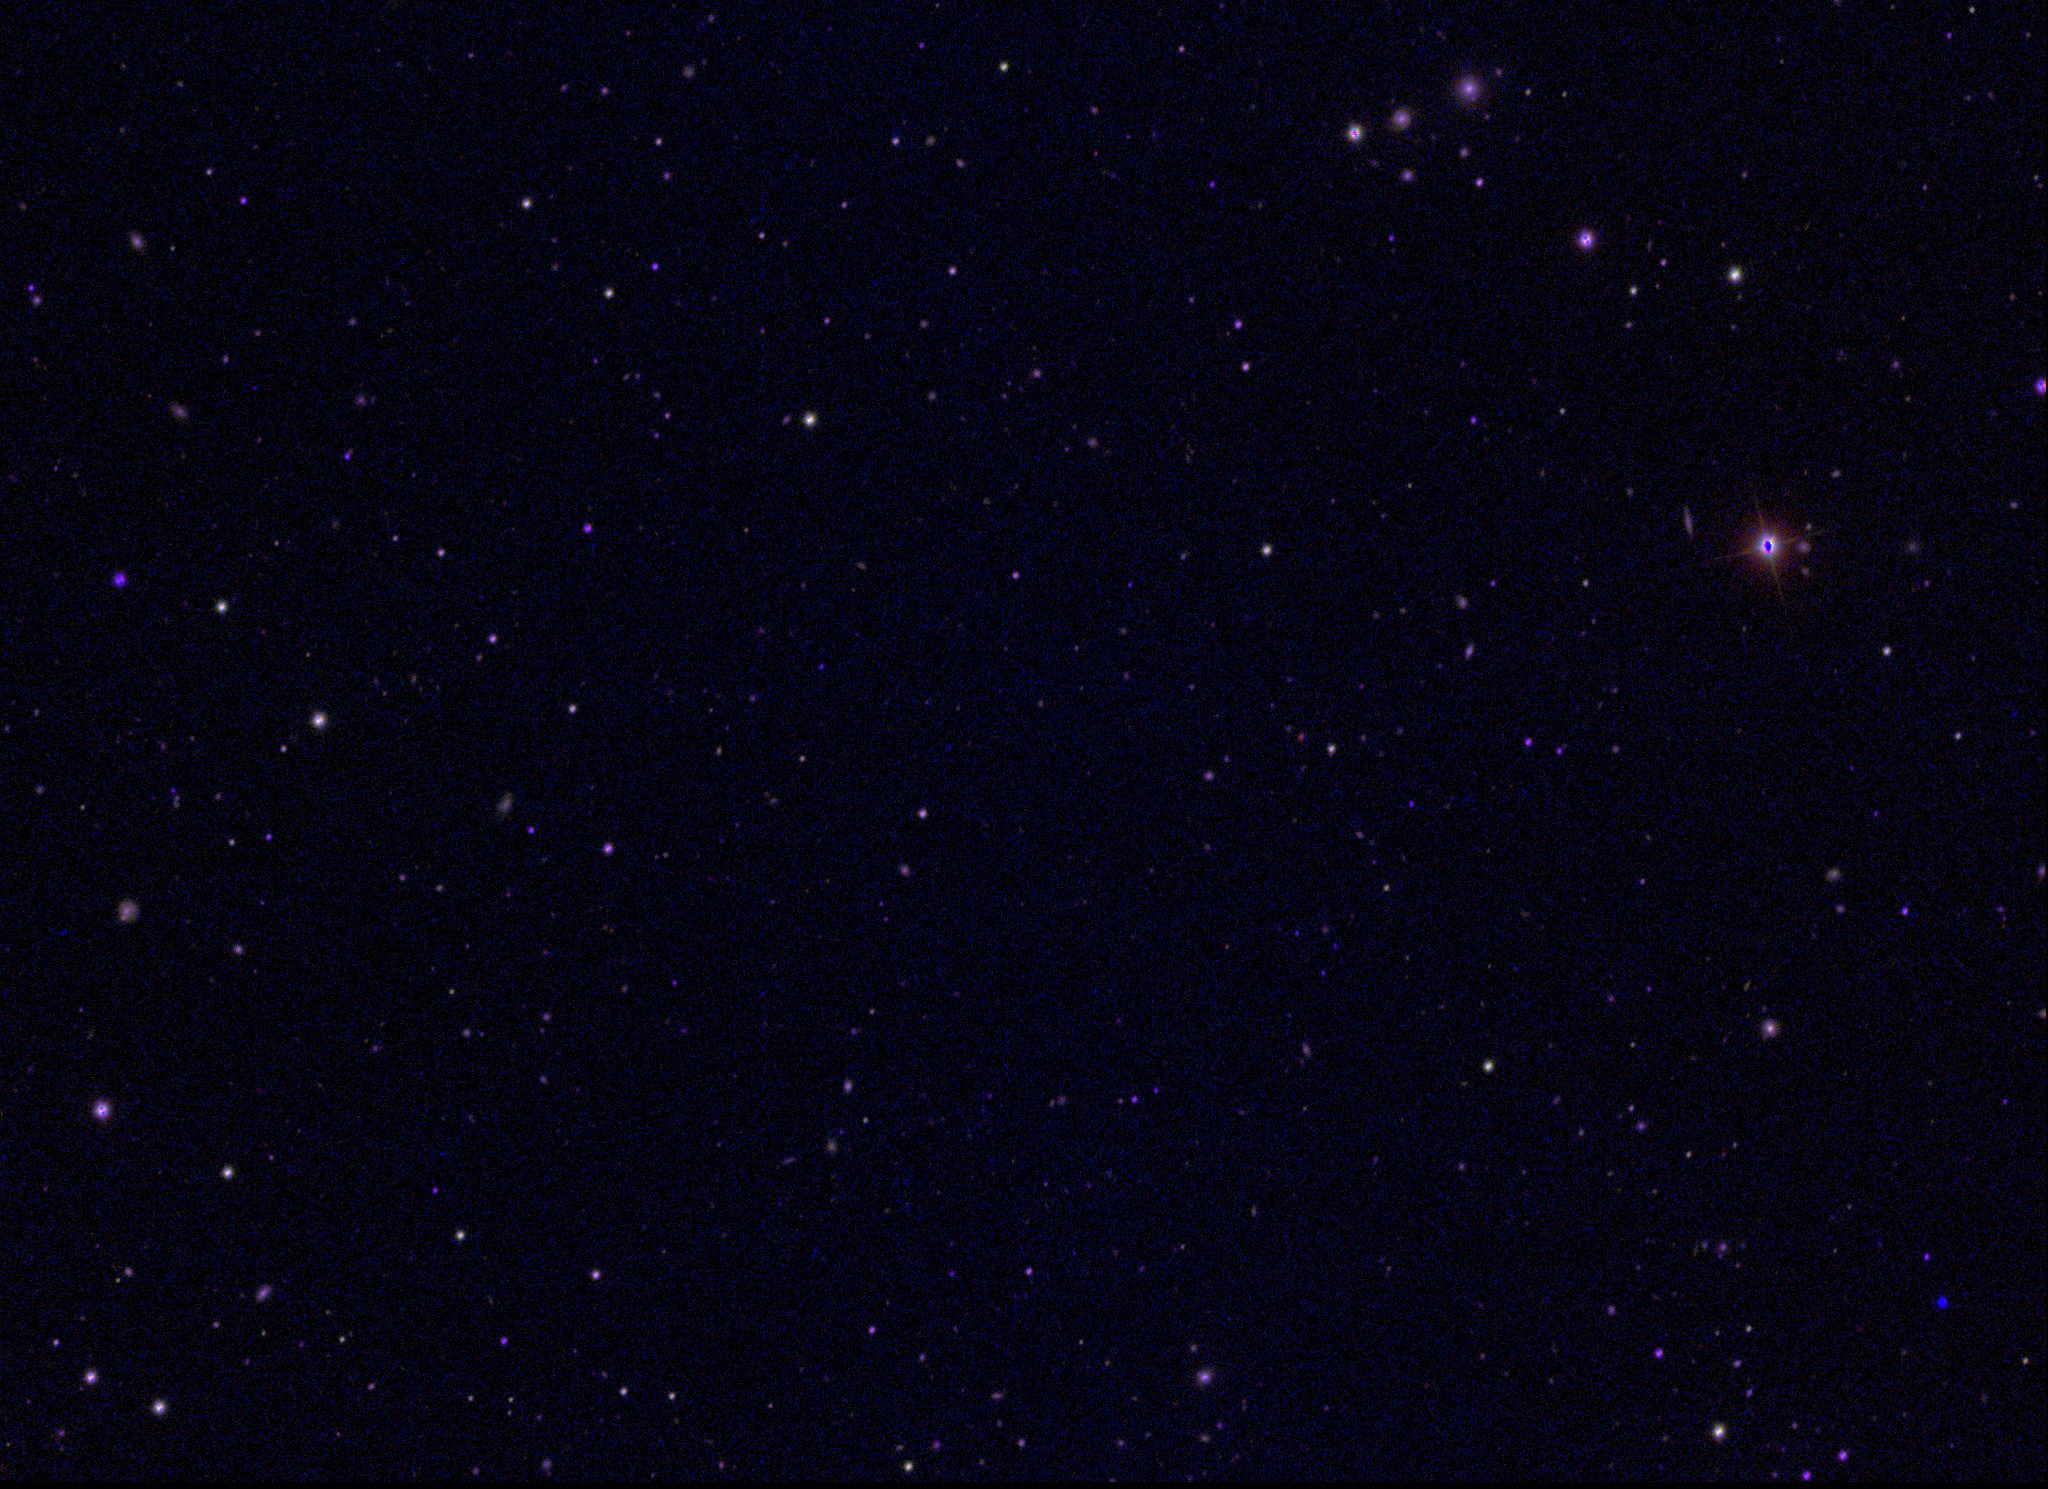L: (1937, 1295, 1949, 1309)
